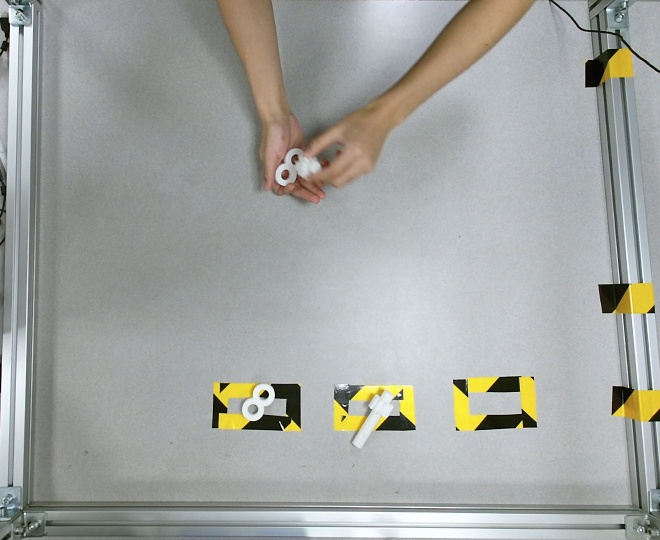stage_1: (275, 148, 307, 186)
